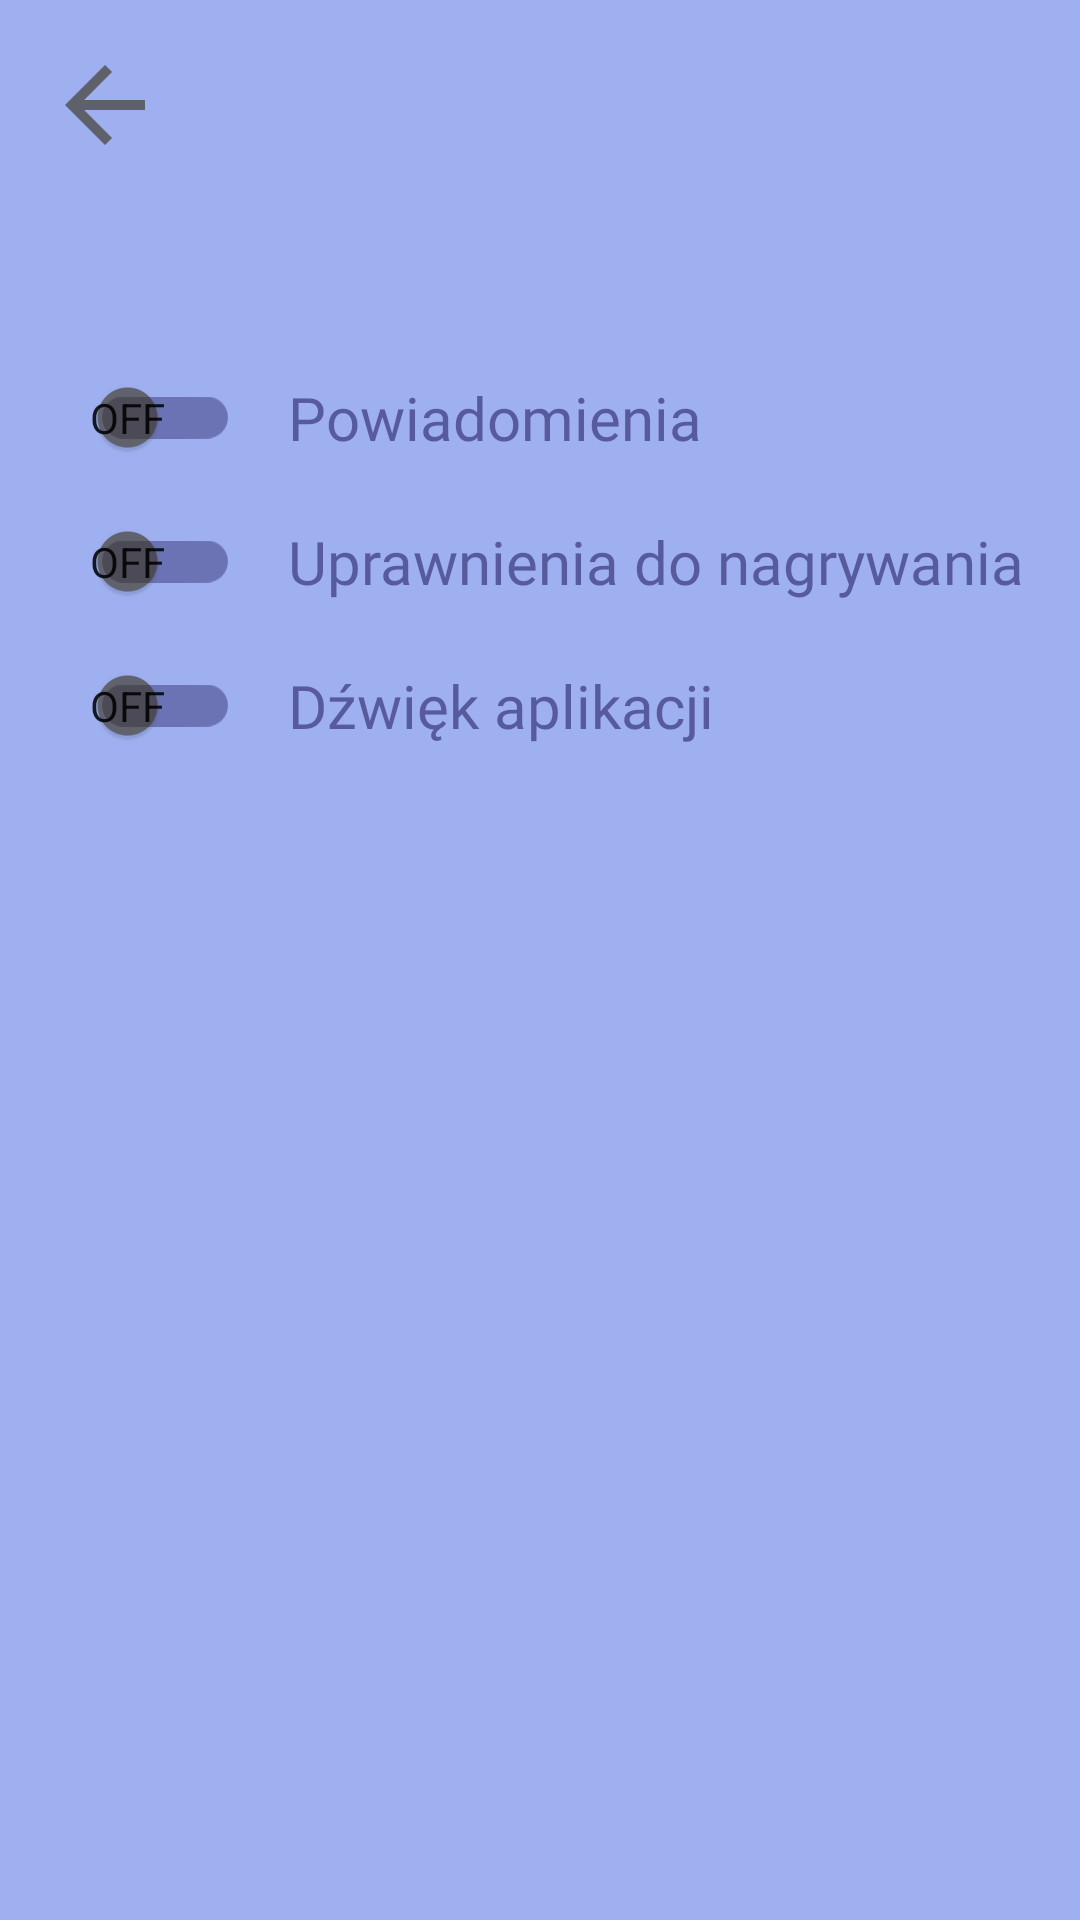

Screen size 1080*1920. Icon name, then its center in pixels as (x=x, y=y):
arrow back: (x=105, y=105)
